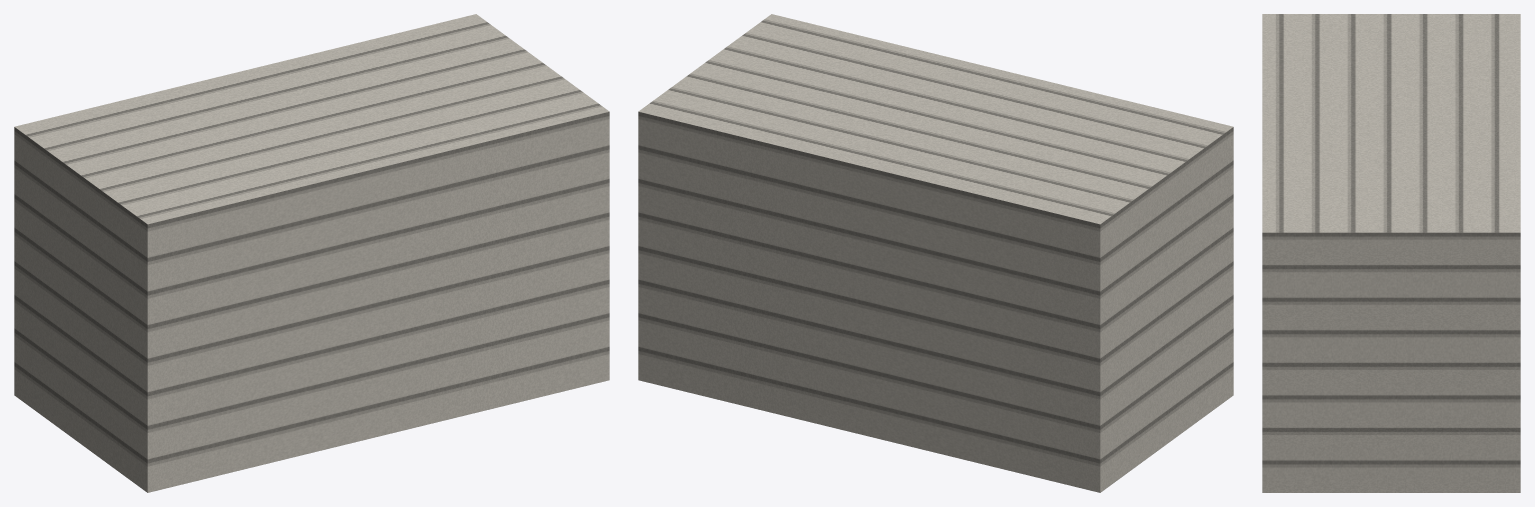
File: institutional_range_oven.glb
3 views of the same model, side by side, from view 1: azimuth 30°, elevation 25°; view 2: azimuth 150°, elevation 25°; view 3: azimuth 270°, elevation 25° (orthographic). The views are drawn at different scales.
Visible parts, largest first — view 1: institutional_range_oven-col; view 2: institutional_range_oven-col; view 3: institutional_range_oven-col.
Boxes of the visible parts, x1,y1,x2,y2 form: institutional_range_oven-col: (14,14,609,492); institutional_range_oven-col: (638,14,1233,492); institutional_range_oven-col: (1262,14,1520,492).
Bounding box in the file's own units: 1.8 × 1 × 0.9.
Materials: 1 (1 with a texture image).
